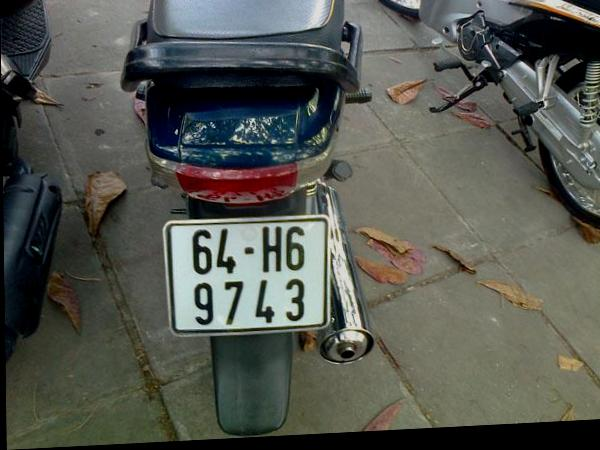License_Plate: (166, 215, 328, 335)
